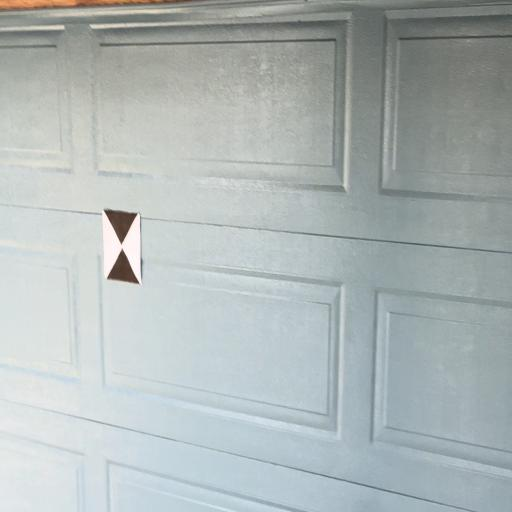target: (102, 210, 141, 284)
